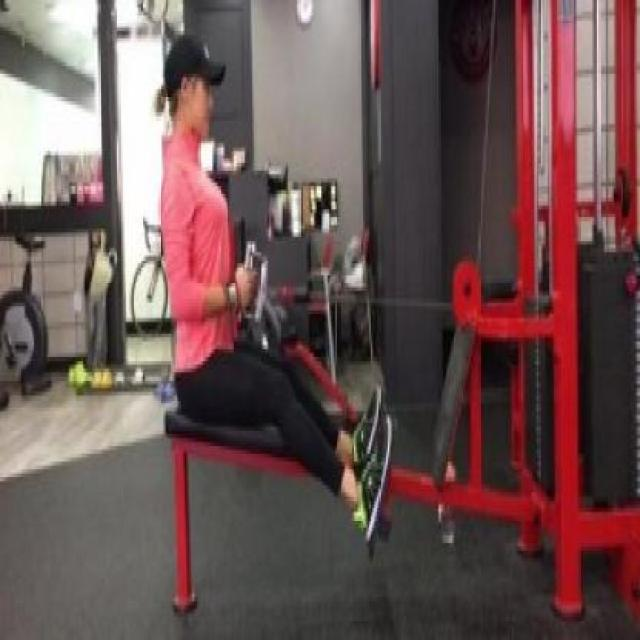Seated Cable Rows: (138, 0, 640, 625)
